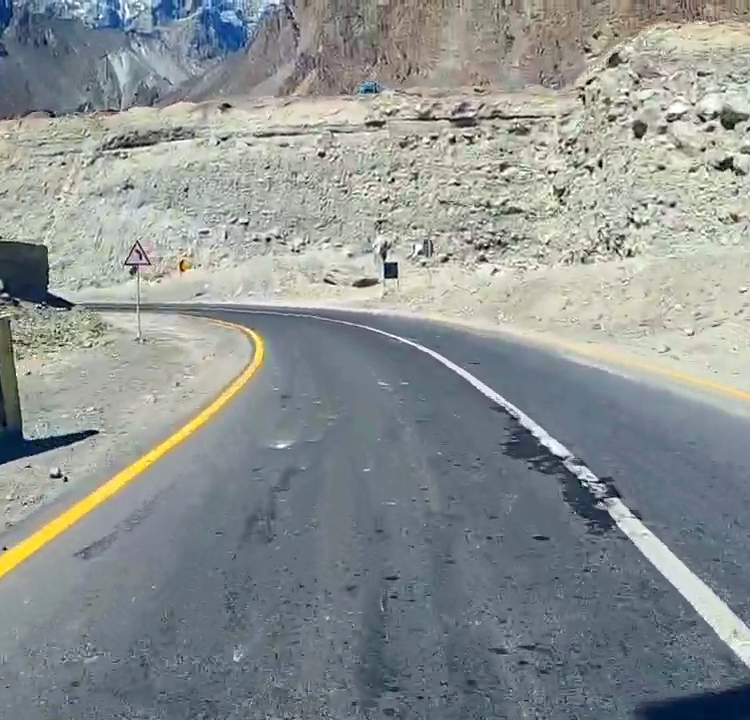right: (107, 226, 645, 431)
